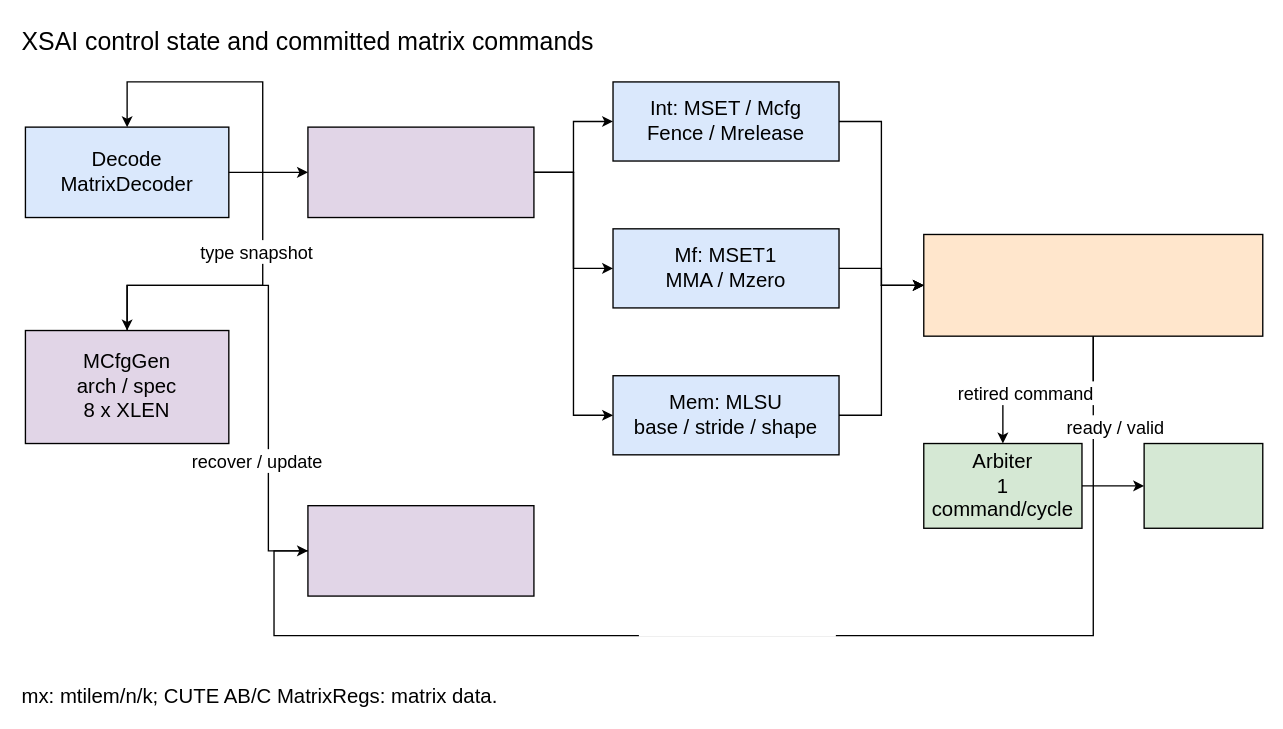
Some shapes in this 1283 by 729 pixel diagram are drawn without their labels. Each missing label, with the centre of its shape:
CUTE: point 1203,485
MCfgBuffer commit / walk: point 420,550
MSETCFG commit / walk: point 736,624
Rename / mx RAT 3 logical / 32 physical: point 420,172
ROB / AmuCtrlBuffer writeback + commit: point 1093,284
